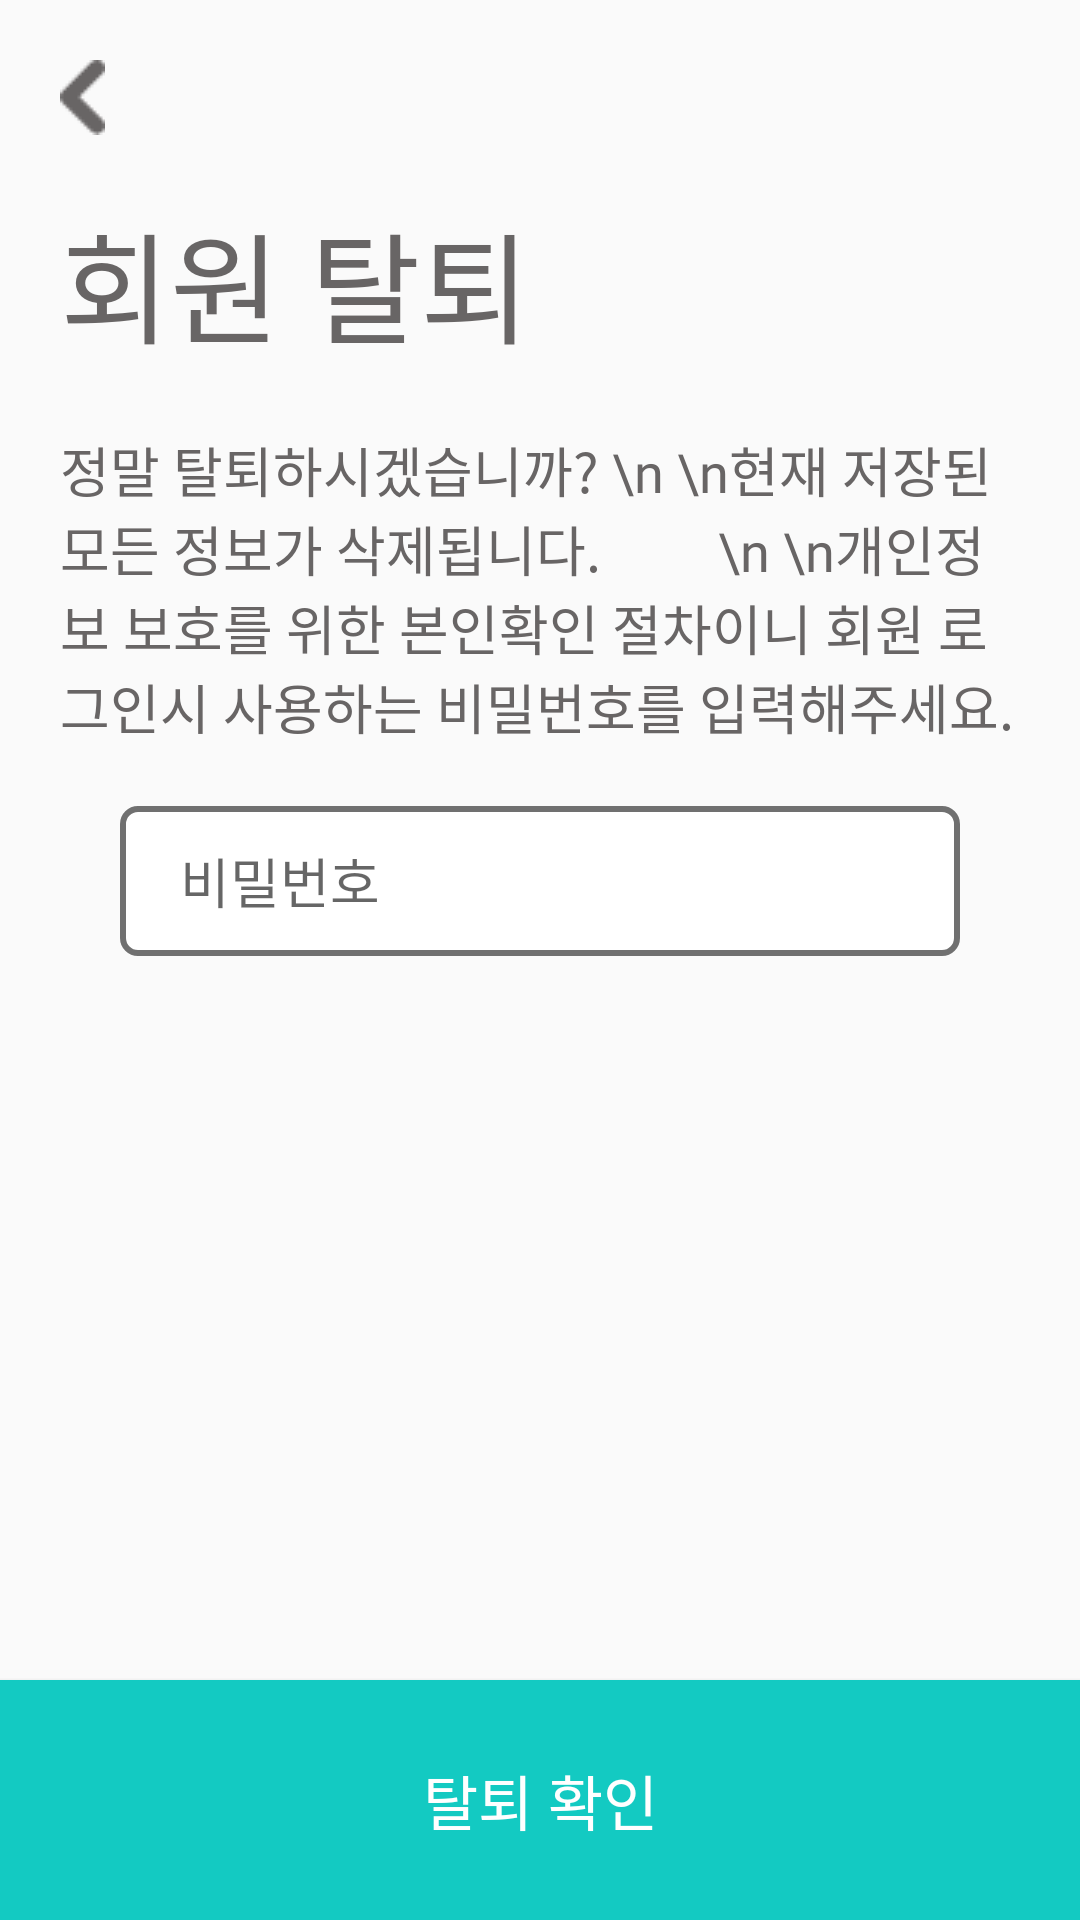

Locate icon controls on the screen. Image size 1080 × 1920, boxes as (x1, y1, x2, y2).
back: (60, 60, 105, 135)
